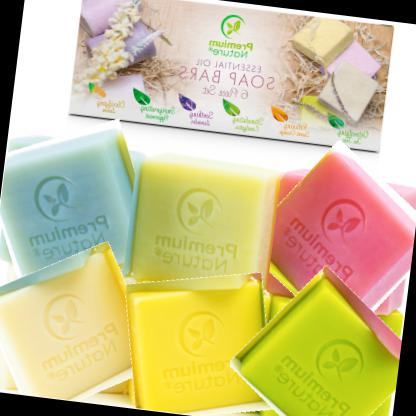soap: (246, 143, 415, 336), (0, 116, 165, 304), (0, 240, 161, 409), (115, 262, 283, 415), (120, 148, 282, 304), (234, 269, 407, 415)
